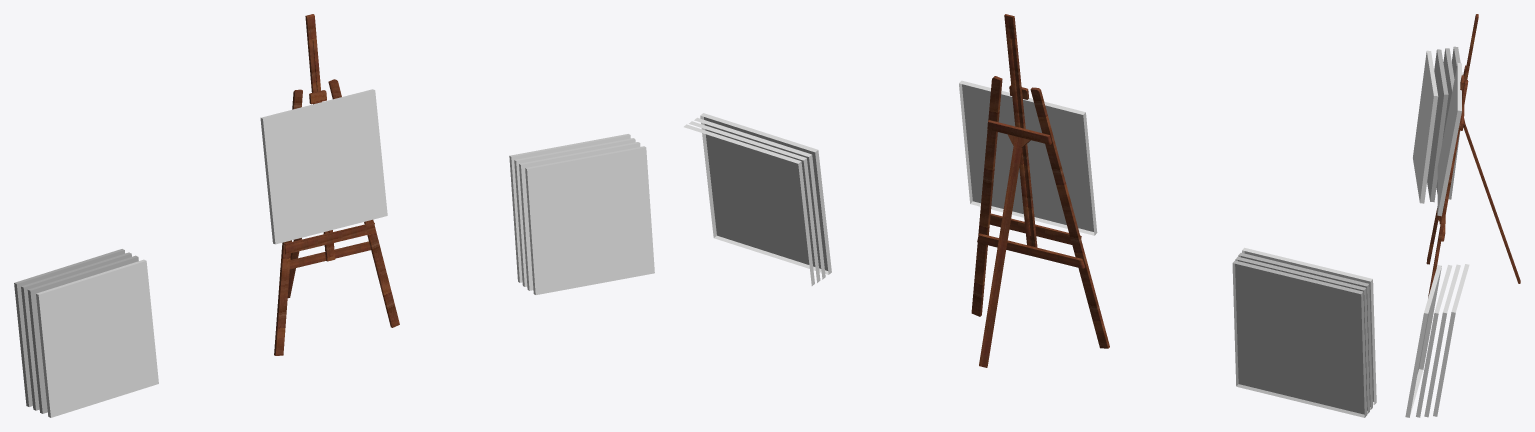
File: Projectsarea.glb
3 renders of one model, left to right at view 1: azimuth 30°, elevation 25°; view 2: azimuth 150°, elevation 25°; view 3: azimuth 270°, elevation 25°, orthographic. The views are drawn at different scales.
Parts seen in each view (by area): view 1: projectstables.006, projectstables, projectstables.002, painttablestand, projectstables.003, projectstables.005, projectstables.007, projectstables.004, projectstables.009, projectstables.008; view 2: projectstables.005, projectstables.006, painttablestand, projectstables, projectstables.002, projectstables.003, projectstables.004, projectstables.007, projectstables.008, projectstables.009; view 3: projectstables.002, painttablestand, projectstables, projectstables.003, projectstables.006, projectstables.009, projectstables.007, projectstables.008, projectstables.004, projectstables.005.
Boxes of the visible parts, bbox=[...] form: projectstables.006: bbox=[525, 146, 654, 294]; projectstables: bbox=[260, 89, 387, 244]; projectstables.002: bbox=[36, 259, 158, 417]; painttablestand: bbox=[274, 14, 399, 355]; projectstables.003: bbox=[27, 255, 138, 413]; projectstables.005: bbox=[14, 249, 124, 406]; projectstables.007: bbox=[519, 142, 640, 290]; projectstables.004: bbox=[21, 252, 131, 410]; projectstables.009: bbox=[509, 134, 630, 282]; projectstables.008: bbox=[514, 138, 635, 286]; projectstables.005: bbox=[1232, 260, 1367, 417]; projectstables.006: bbox=[700, 113, 831, 274]; painttablestand: bbox=[971, 14, 1109, 367]; projectstables: bbox=[959, 80, 1097, 235]; projectstables.002: bbox=[1242, 247, 1376, 404]; projectstables.003: bbox=[1238, 252, 1372, 409]; projectstables.004: bbox=[1235, 256, 1369, 413]; projectstables.007: bbox=[694, 117, 825, 279]; projectstables.008: bbox=[689, 121, 820, 282]; projectstables.009: bbox=[684, 124, 814, 285]; projectstables.002: bbox=[1413, 50, 1438, 203]; painttablestand: bbox=[1426, 14, 1520, 297]; projectstables: bbox=[1437, 63, 1461, 216]; projectstables.003: bbox=[1427, 49, 1448, 202]; projectstables.006: bbox=[1405, 265, 1441, 417]; projectstables.009: bbox=[1433, 264, 1469, 416]; projectstables.007: bbox=[1416, 265, 1452, 417]; projectstables.008: bbox=[1424, 264, 1460, 417]; projectstables.004: bbox=[1436, 48, 1454, 193]; projectstables.005: bbox=[1448, 46, 1462, 199].
Bounding box in the file's own units: 1.36 × 0.6503 × 0.249.
5 materials, 1 textured.
